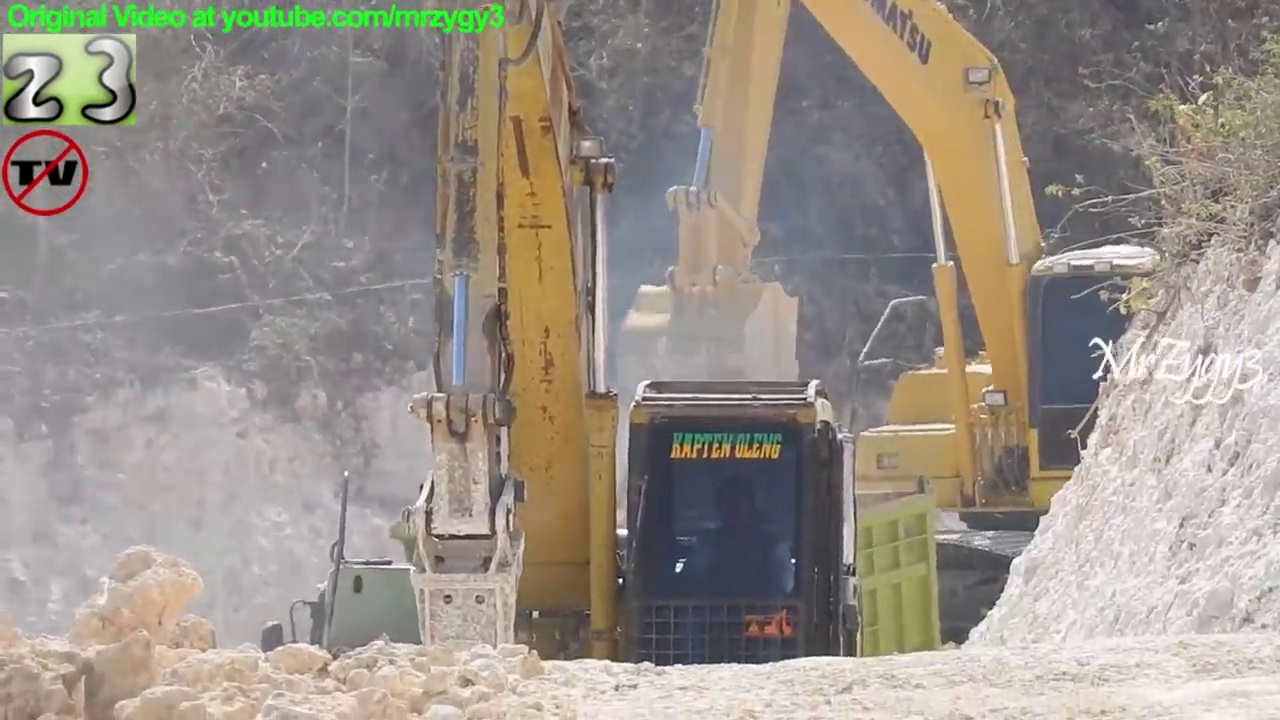excavator: (601, 1, 1217, 676), (378, 1, 871, 720)
truck: (385, 471, 955, 720)
